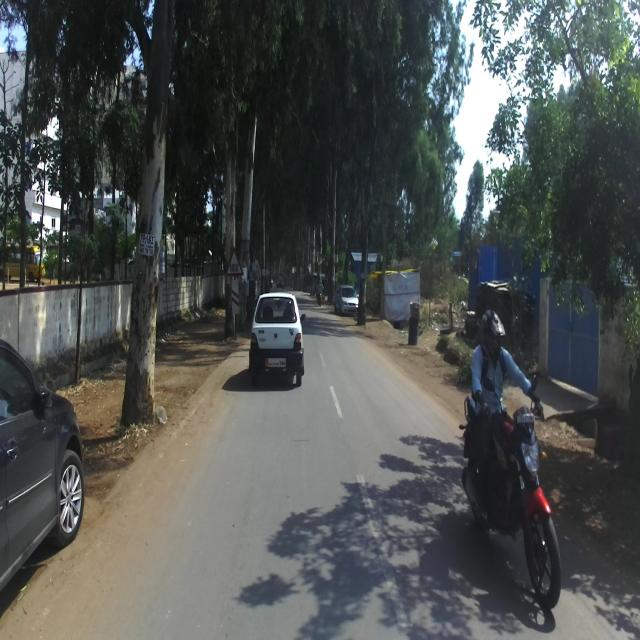Car_Maruti-Suzuki: (248, 291, 306, 387)
motorcycle_Yamaha: (458, 375, 563, 608)
